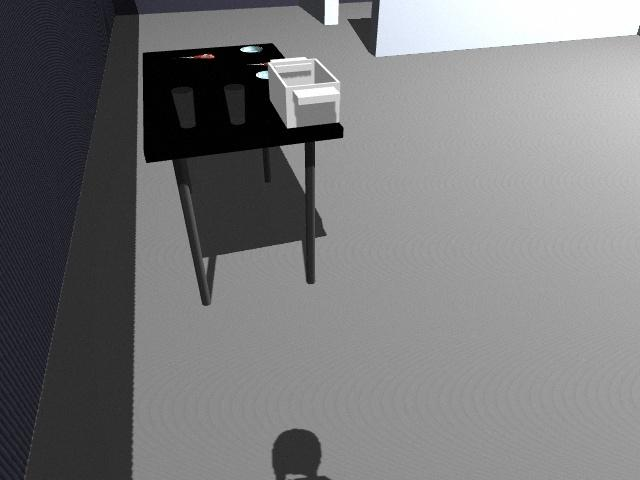cup: (171, 86, 196, 128), (224, 84, 246, 125)
plate: (240, 45, 263, 53), (256, 70, 270, 79)
scissors: (179, 53, 217, 60), (248, 62, 271, 67)
